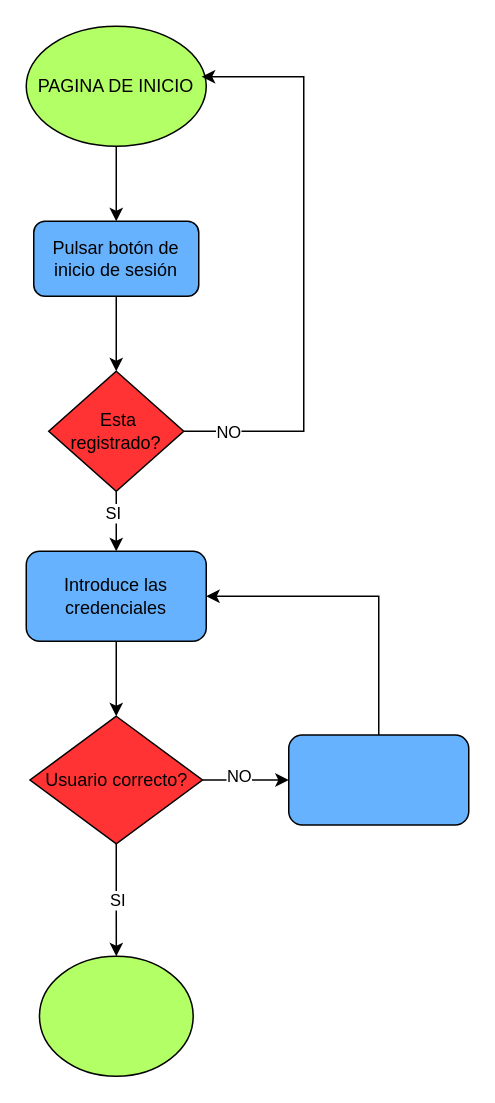
Some shapes in this 495 by 1103 pixel diagram are drawn without their labels. The shapes that lost their labels are listed below. From the top down, each one's box as (x1, y1, x2, y2) in pixels, then its label:
(287, 734, 469, 825): mensaje de error
(38, 955, 193, 1076): Fin
